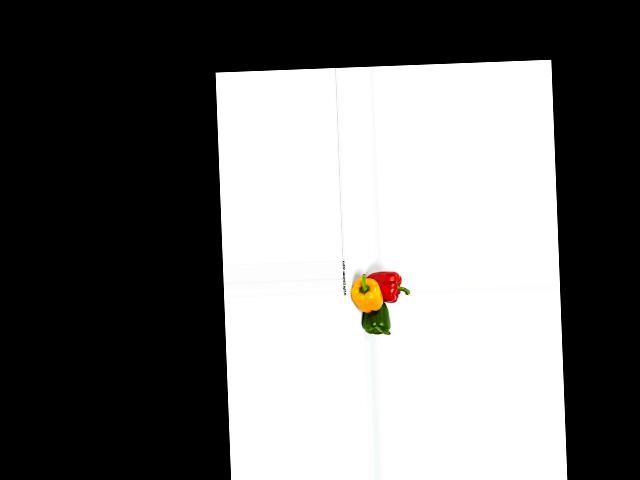bell_pepper: (368, 267, 409, 304)
